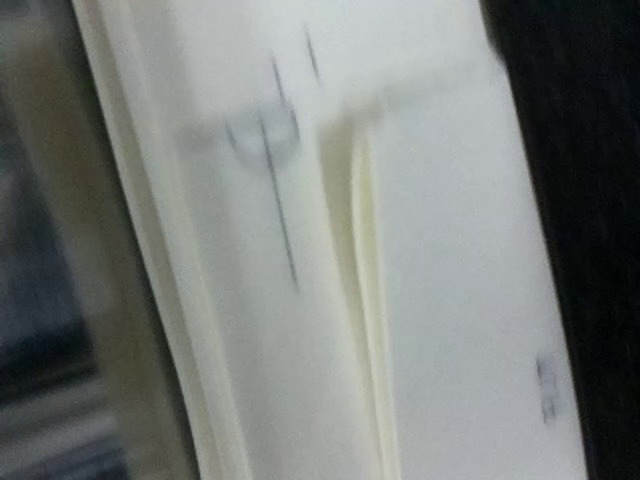not_sure: (167, 54, 316, 189)
